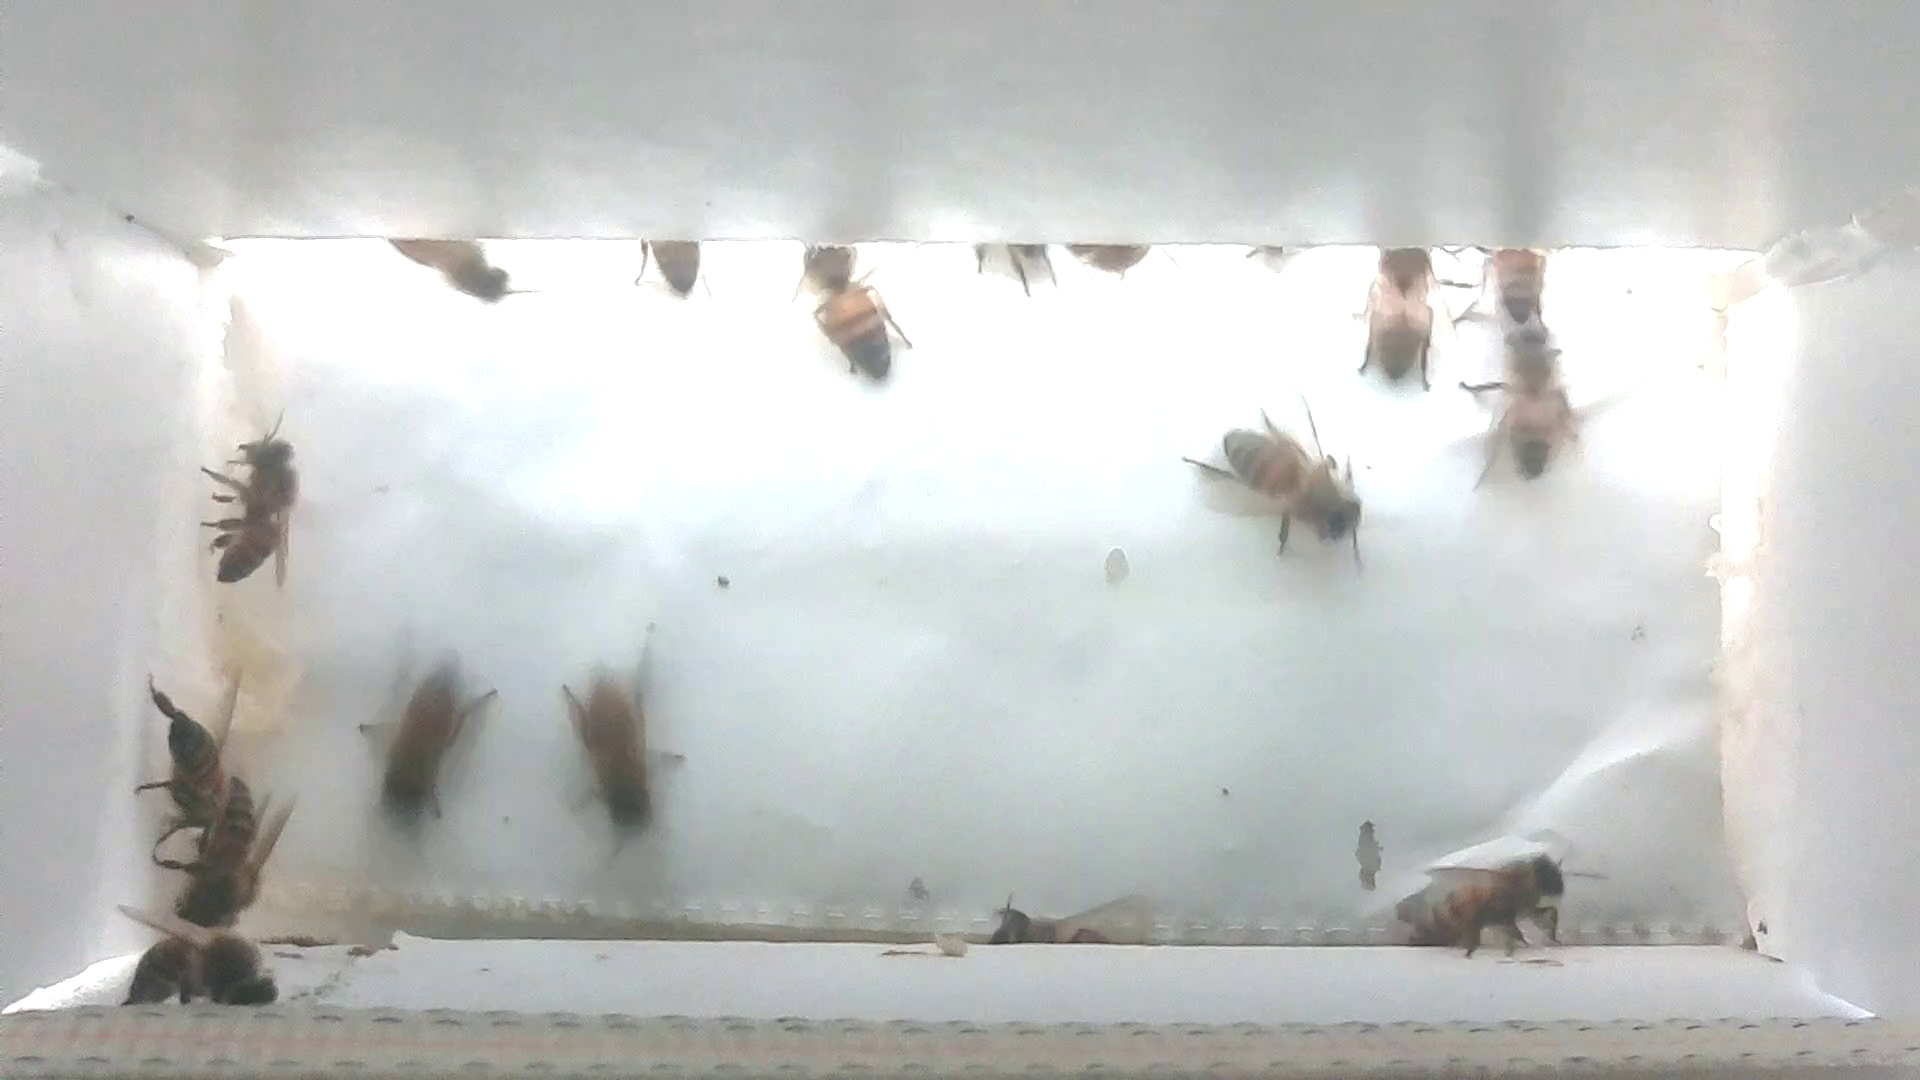bee: (1175, 392, 1385, 579), (549, 638, 708, 869), (349, 630, 514, 836), (746, 215, 934, 396), (1378, 819, 1585, 964), (104, 885, 301, 1023), (194, 401, 328, 600), (152, 731, 286, 928), (1327, 229, 1460, 418), (1460, 320, 1596, 500), (111, 661, 229, 840), (373, 214, 538, 320), (1462, 224, 1569, 344), (624, 231, 717, 315)
